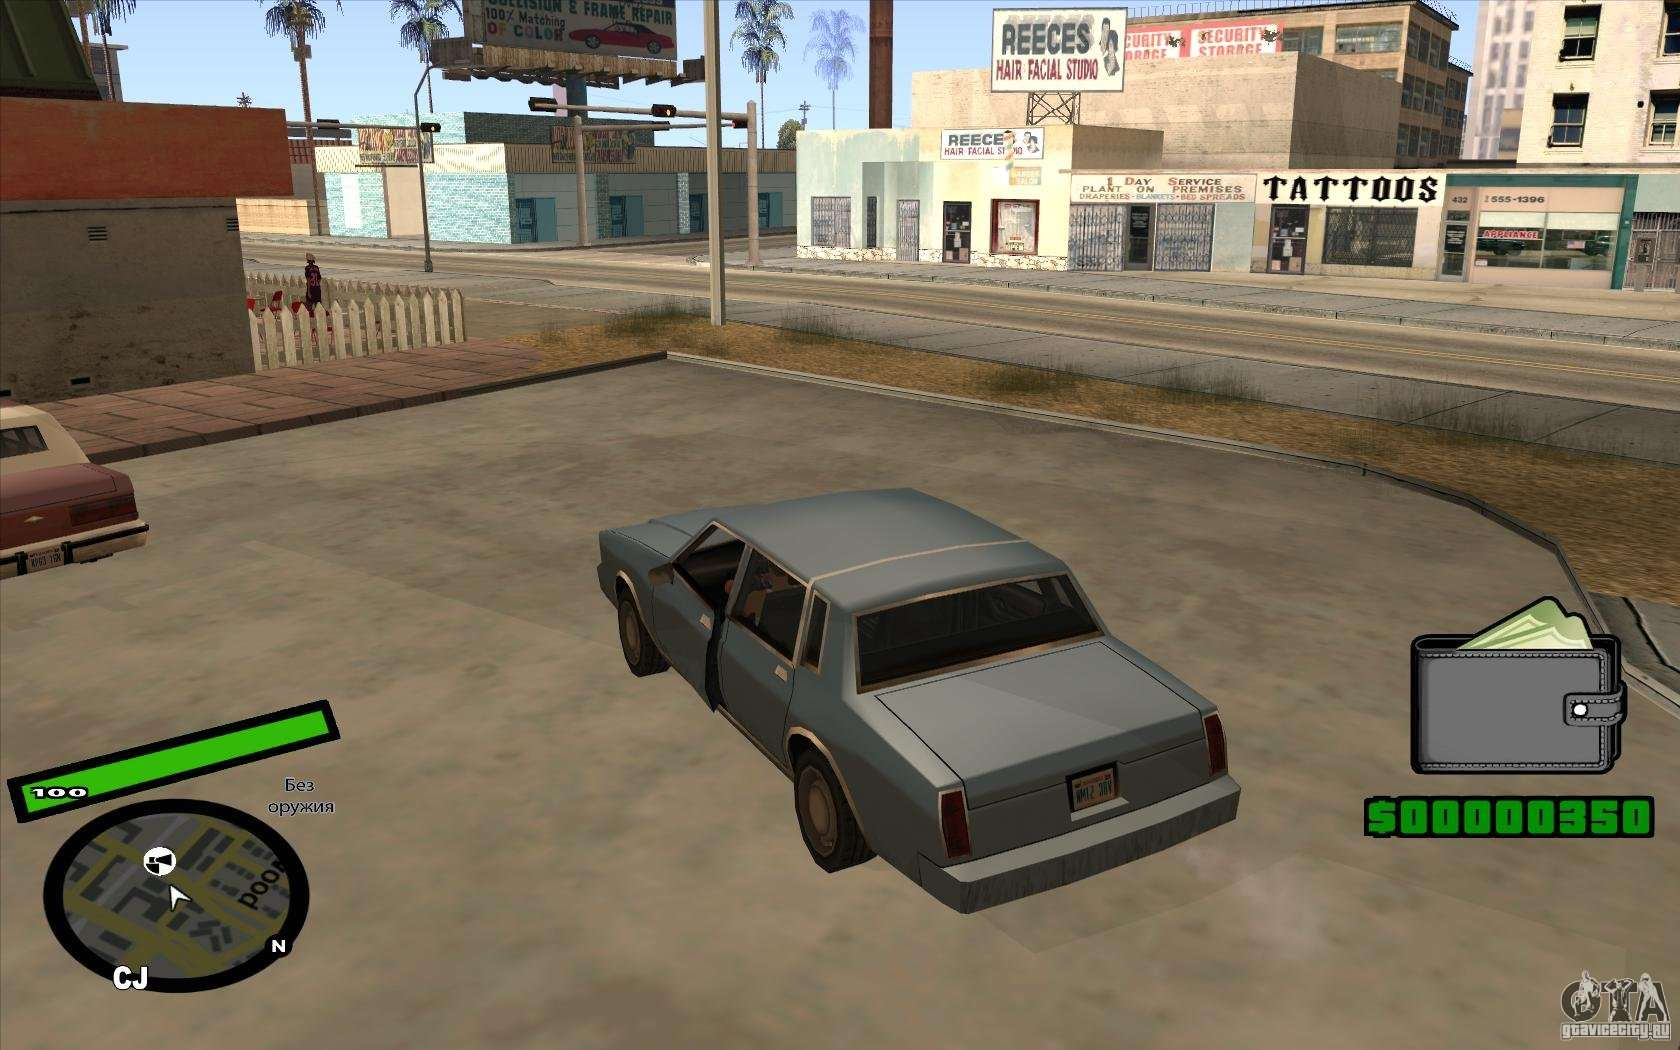car: (593, 475, 1268, 910)
person: (293, 247, 334, 337)
